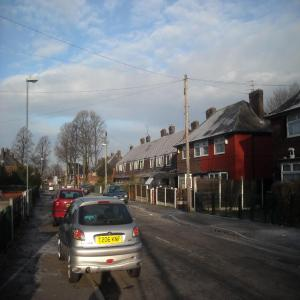Vehicle-registration-plate: (98, 237, 123, 245)
